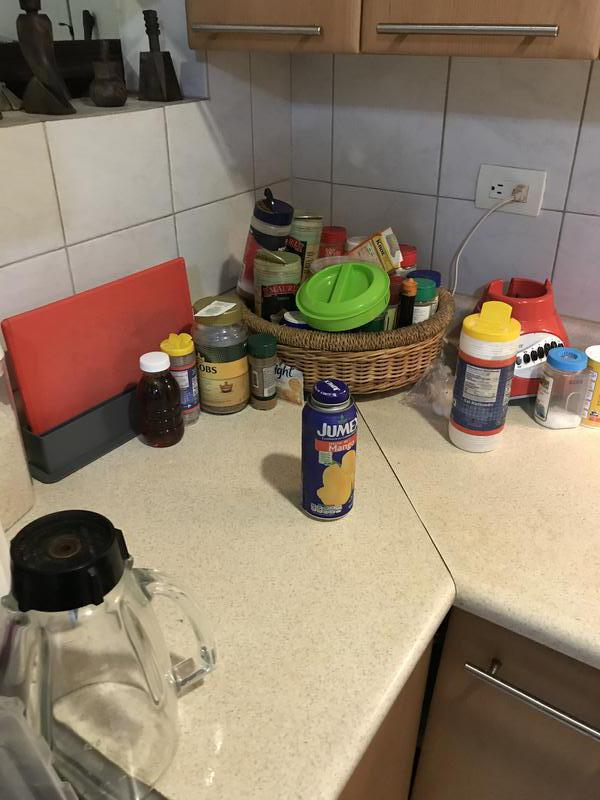jugo_jumex: (299, 385, 359, 522)
